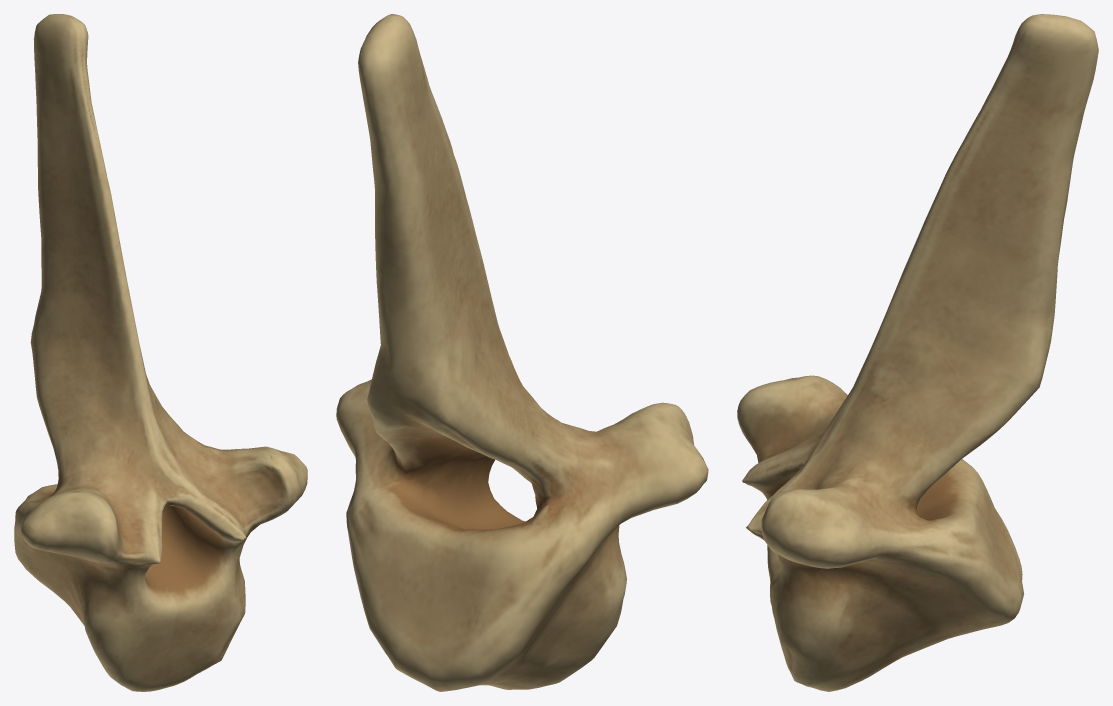
3 renders of one model, left to right at view 1: azimuth 30°, elevation 25°; view 2: azimuth 150°, elevation 25°; view 3: azimuth 270°, elevation 25°, orthographic. The views are drawn at different scales.
Visible parts, largest first — view 1: Group63798.001; view 2: Group63798.001; view 3: Group63798.001.
Part boxes in pixels (x1,y1,x2,y2): Group63798.001: [14, 14, 307, 691]; Group63798.001: [336, 14, 708, 691]; Group63798.001: [737, 14, 1098, 691].
Bounding box in the file's own units: 49.09 × 99.15 × 48.17.
1 material, 1 textured.
